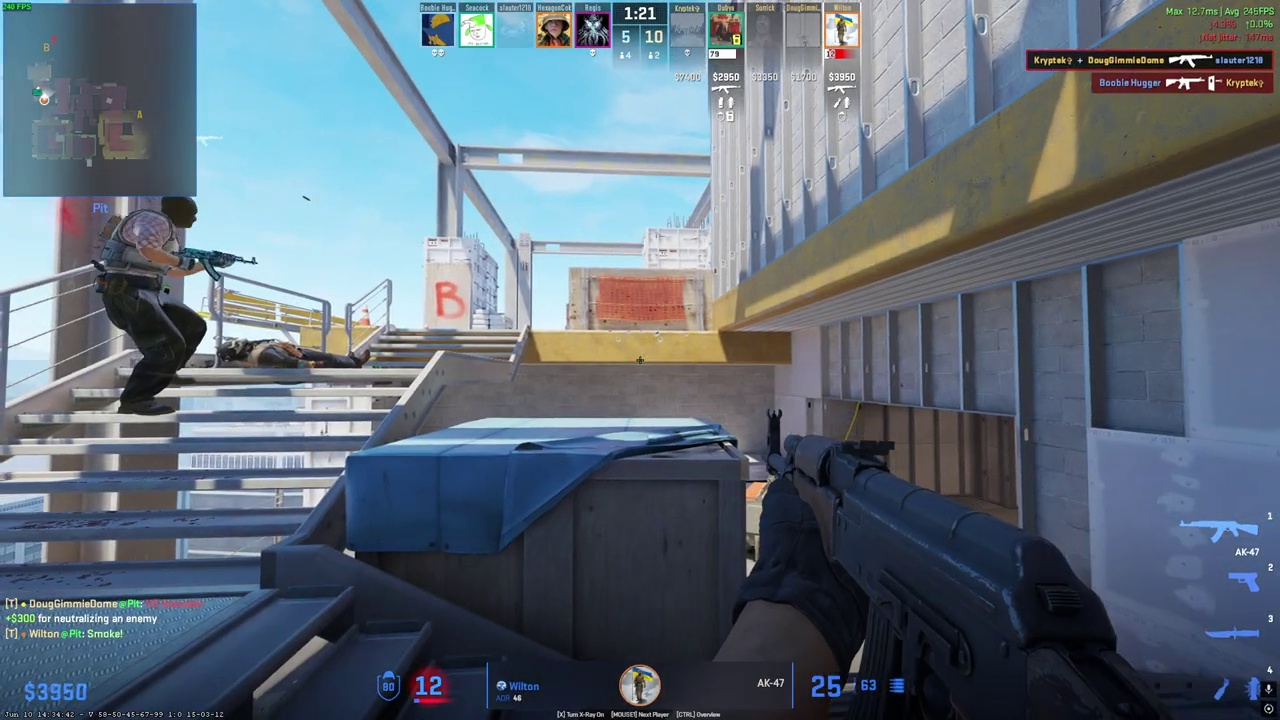Terrorist: (99, 192, 209, 415)
